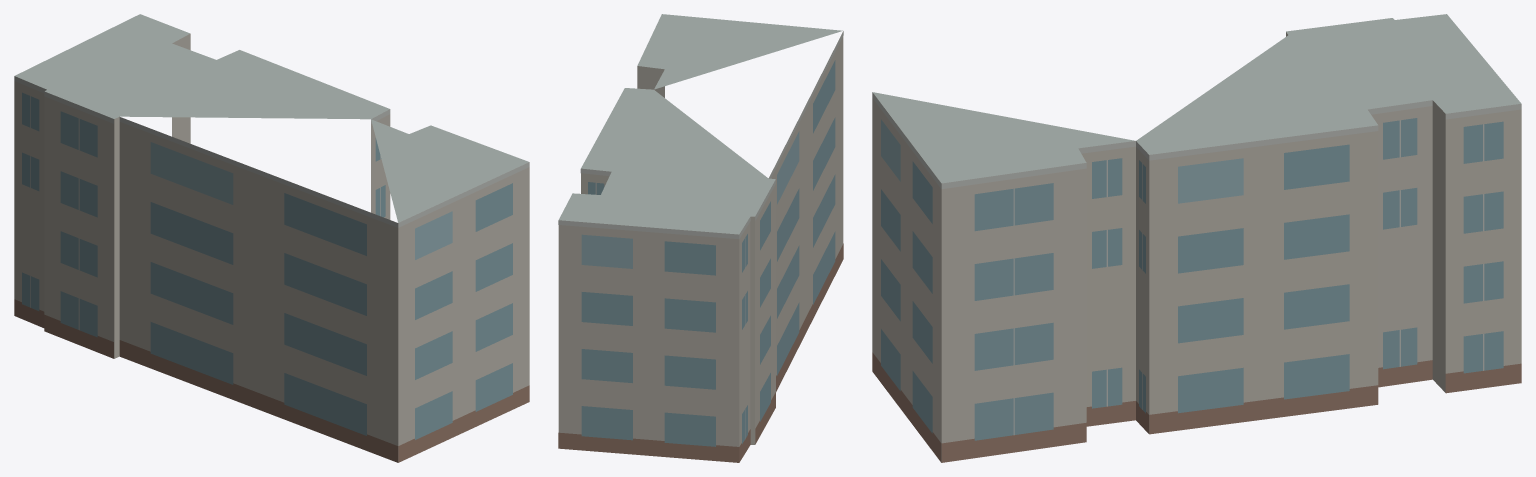
The model's file is survey-upis-32973904.glb.
3 views of the same model, side by side, from view 1: azimuth 30°, elevation 25°; view 2: azimuth 150°, elevation 25°; view 3: azimuth 270°, elevation 25° (orthographic). The views are drawn at different scales.
Parts seen in each view (by area): view 1: survey-upis-32973904.tmp; view 2: survey-upis-32973904.tmp; view 3: survey-upis-32973904.tmp.
Part boxes in pixels (x1,y1,x2,y2): survey-upis-32973904.tmp: [14, 14, 529, 462]; survey-upis-32973904.tmp: [558, 14, 843, 462]; survey-upis-32973904.tmp: [872, 14, 1521, 462].
Size of the model in its own units: 15.5 by 11.9 by 25.07.
